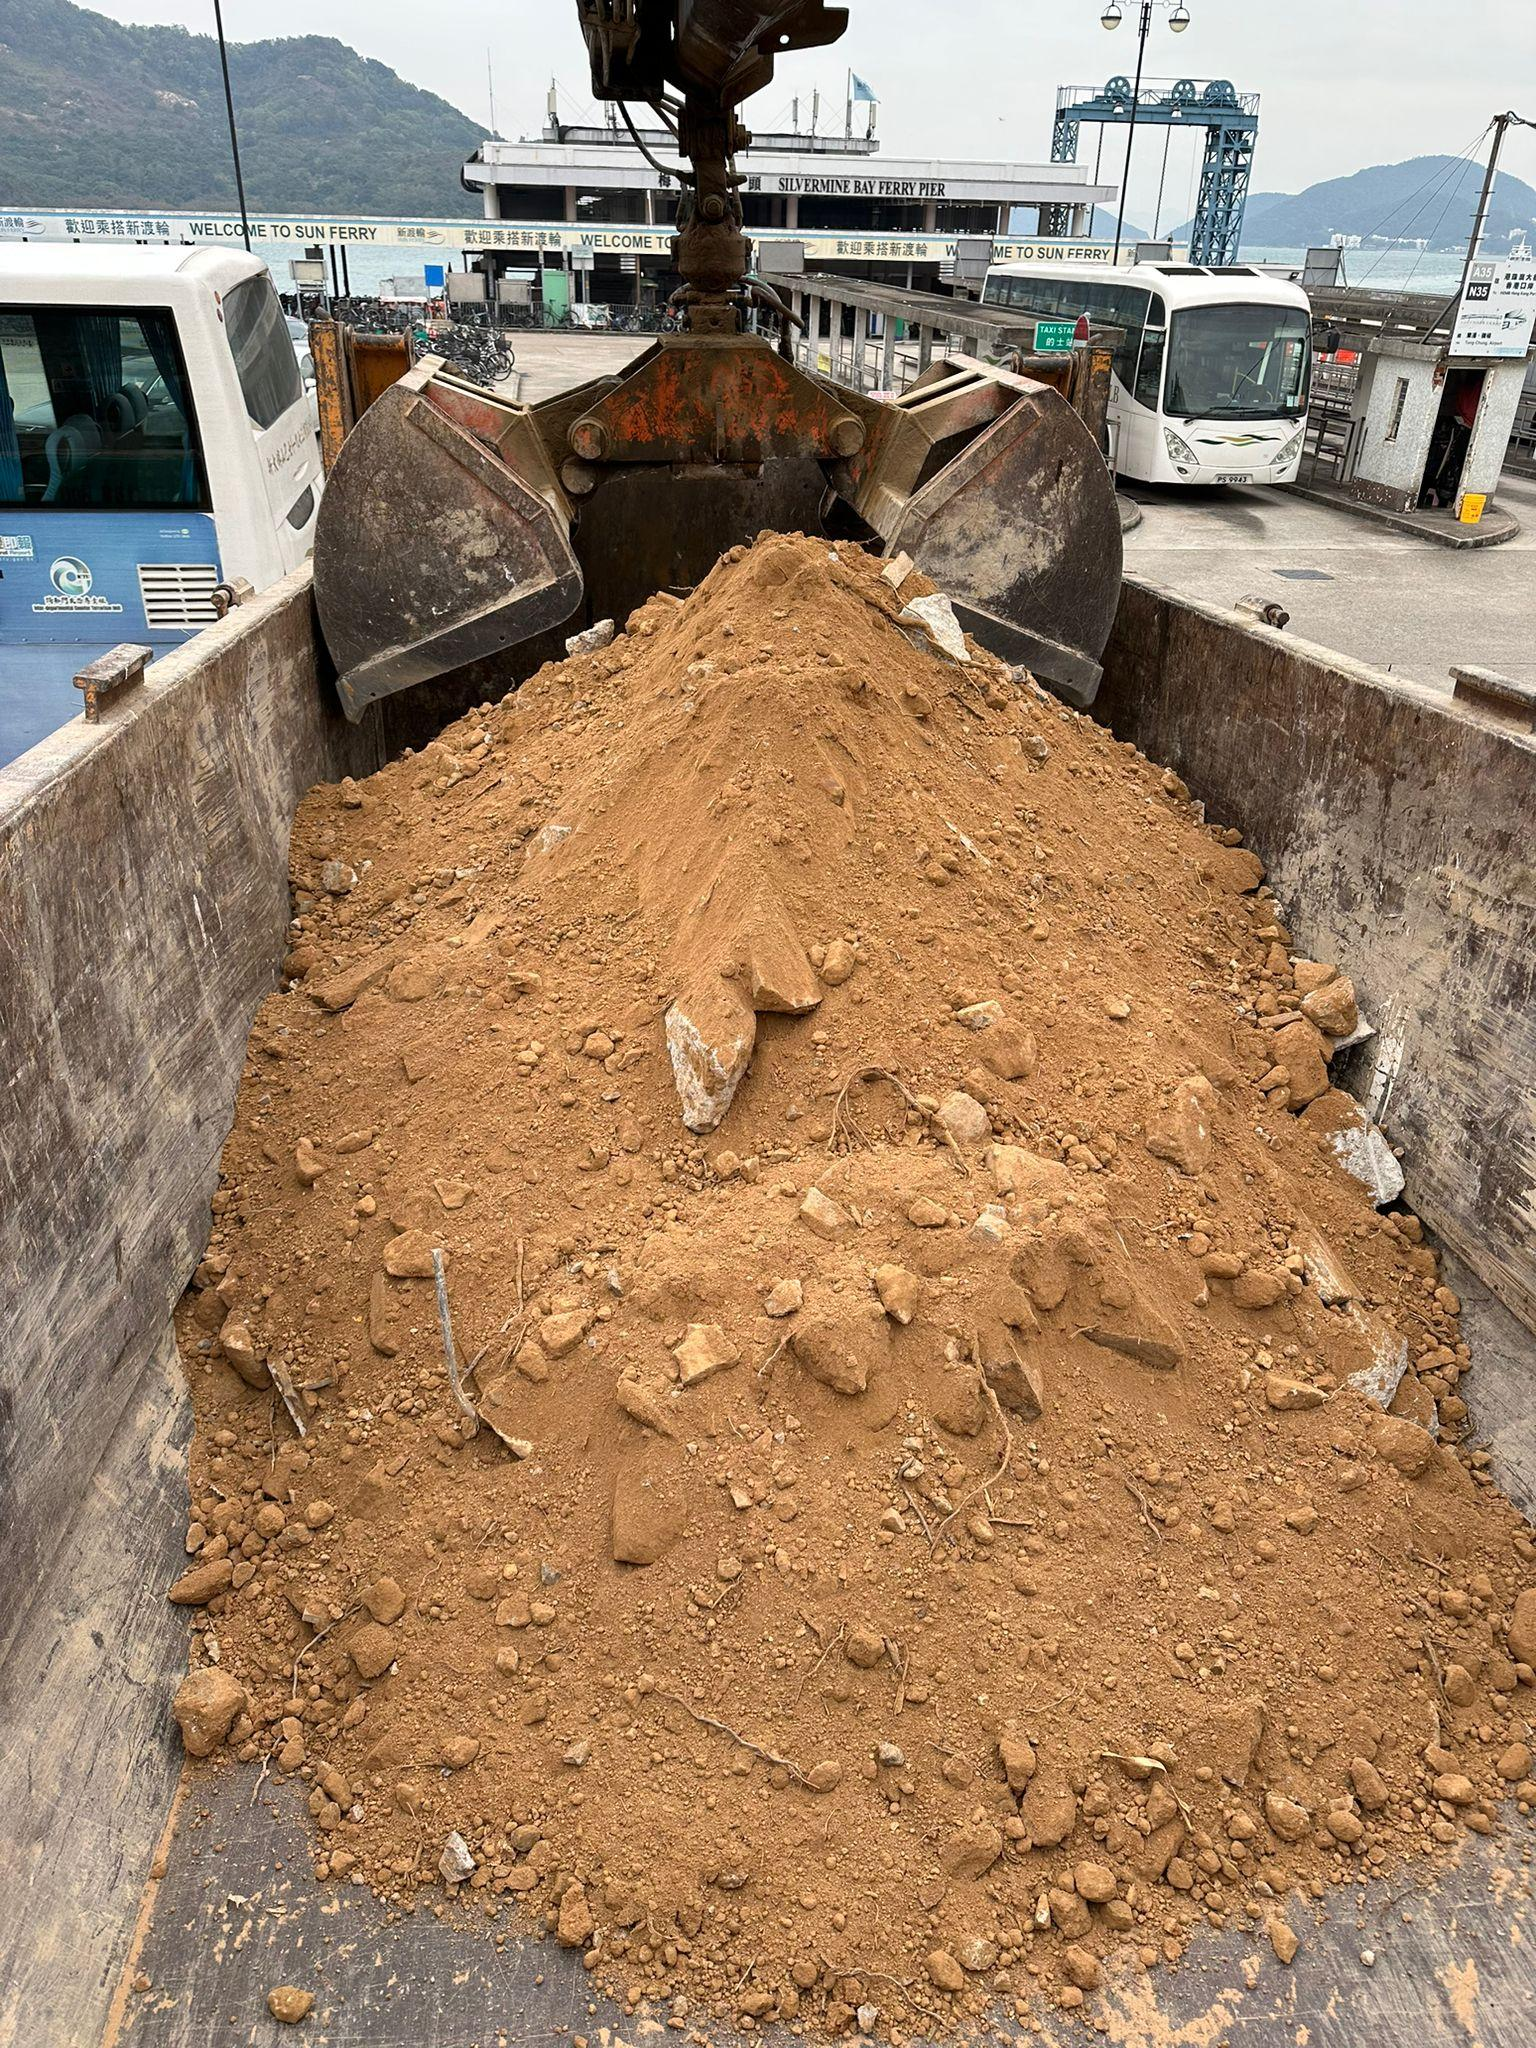dry: (173, 537, 1536, 1987)
